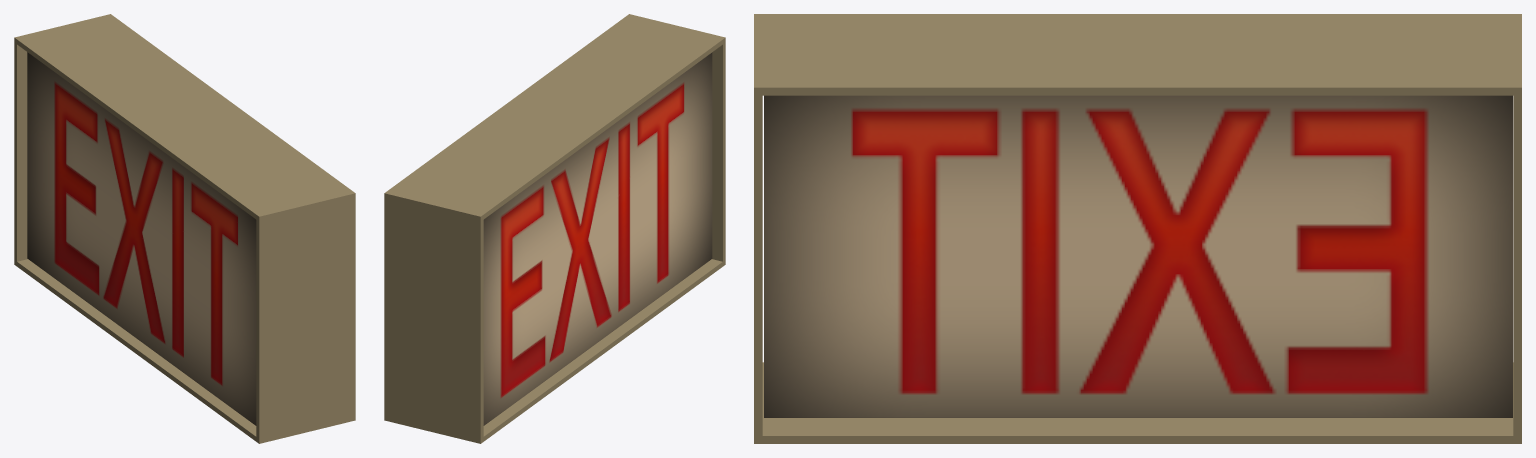
File: exitSign.fbx
The picture shows the model from 3 angles, left to right: view 1: azimuth 30°, elevation 25°; view 2: azimuth 150°, elevation 25°; view 3: azimuth 270°, elevation 25°; orthographic projection. The views are drawn at different scales.
Parts seen in each view (by area): view 1: exitSign; view 2: exitSign; view 3: exitSign.
Boxes of the visible parts, box(x1,y1,x2,y2) form: exitSign: box(14, 14, 355, 443); exitSign: box(384, 14, 725, 443); exitSign: box(754, 14, 1521, 443).
Size of the model in its own units: 3 by 6.76 by 13.2.
2 materials, 1 textured.
